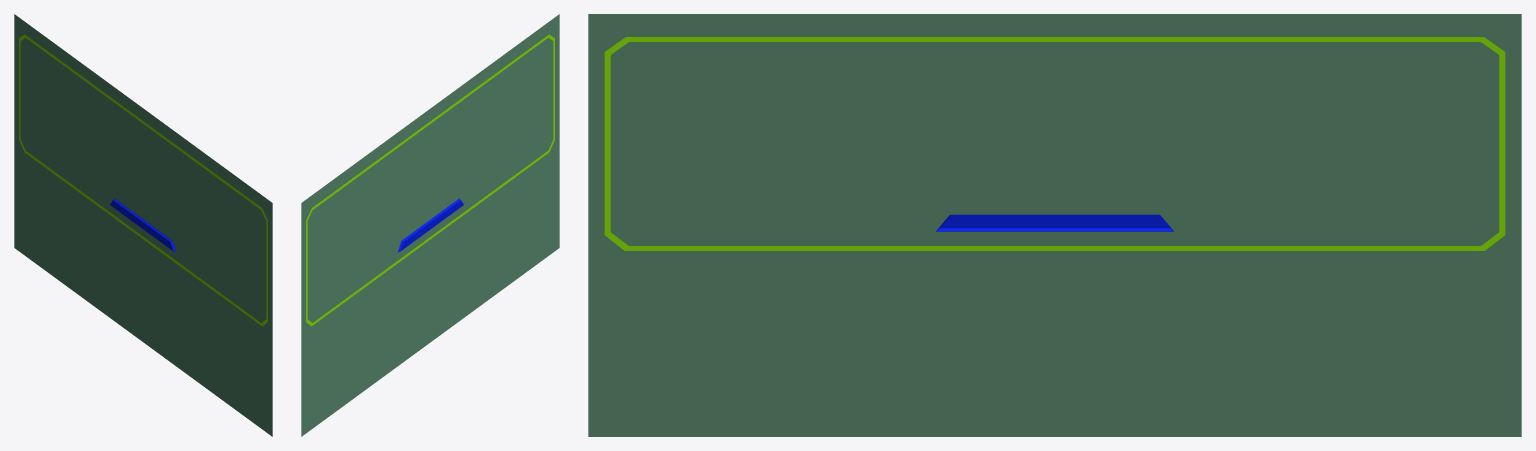
The model's file is Building_Wall_03c_snaps016.FBX.
3 views of the same model, side by side, from view 1: azimuth 30°, elevation 25°; view 2: azimuth 150°, elevation 25°; view 3: azimuth 270°, elevation 25° (orthographic). The views are drawn at different scales.
Parts seen in each view (by area): view 1: Building_Wall_03c_snaps016_LOD0; view 2: Building_Wall_03c_snaps016_LOD0; view 3: Building_Wall_03c_snaps016_LOD0.
Boxes of the visible parts, x1=… form: Building_Wall_03c_snaps016_LOD0: x1=14, y1=14, x2=272, y2=436; Building_Wall_03c_snaps016_LOD0: x1=301, y1=14, x2=559, y2=436; Building_Wall_03c_snaps016_LOD0: x1=588, y1=14, x2=1521, y2=436.
Size of what is drawn, in the model's own units: 0.0234 by 3 by 6.
